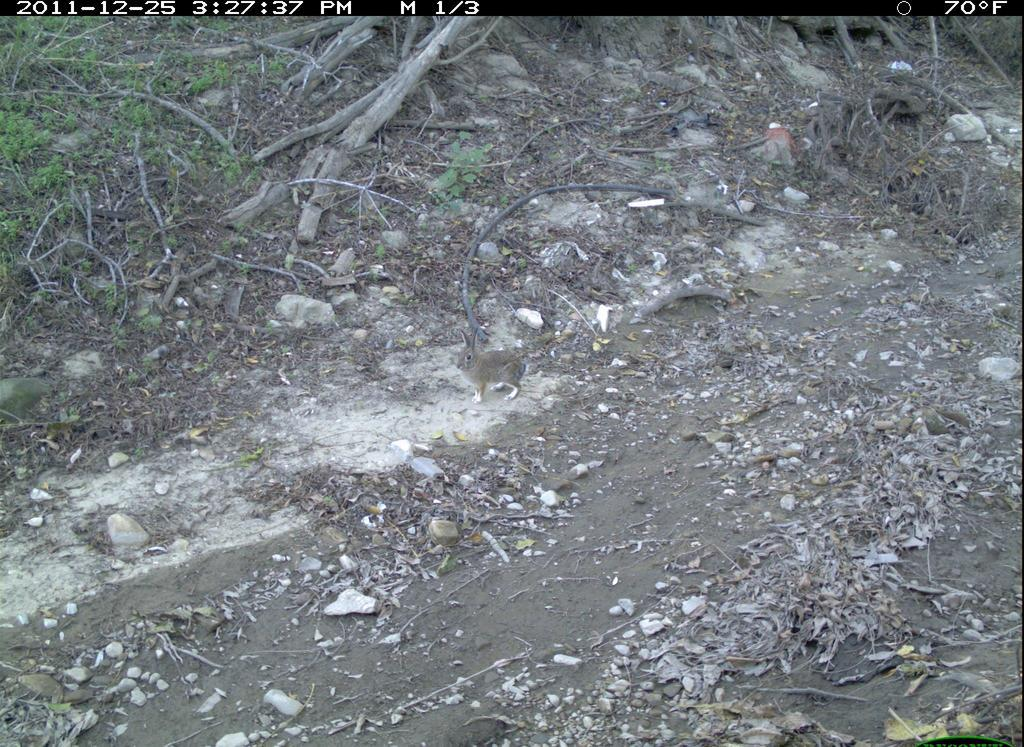rabbit: (419, 321, 556, 436)
